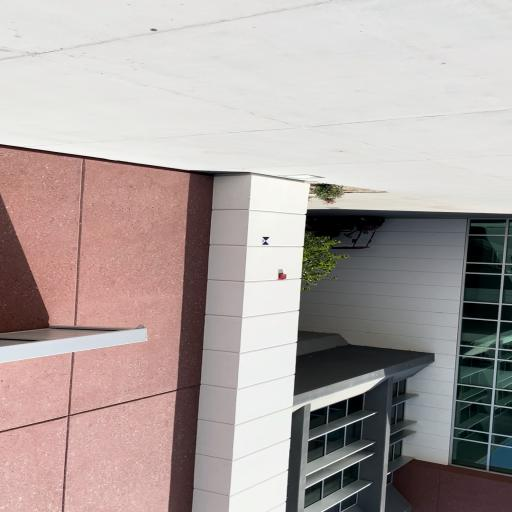target6: (260, 237, 270, 245)
